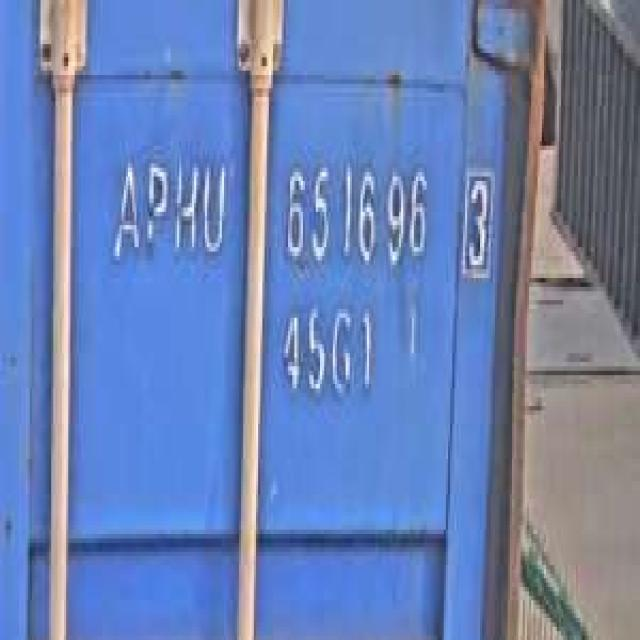dv: (456, 159, 495, 278)
owner: (107, 146, 228, 264)
serial: (277, 150, 431, 278)
size: (277, 296, 384, 406)
